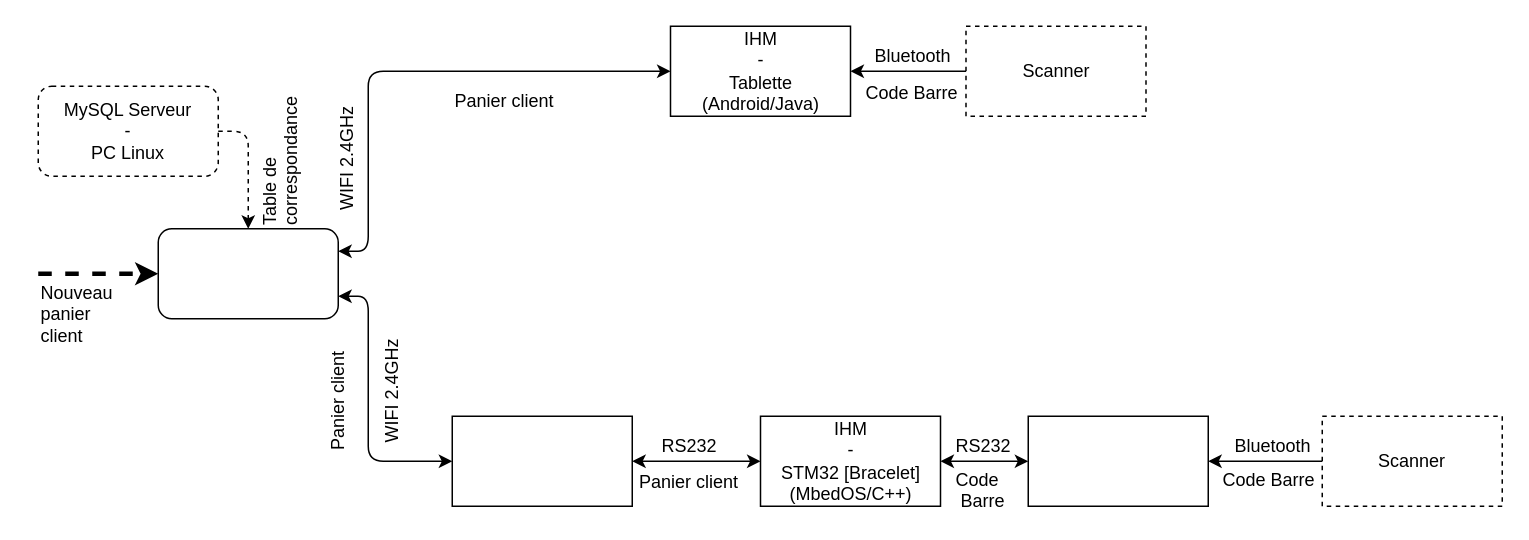
The diagram is 1529 pixels wide and 540 high, and some of its shapes have lost their labels. Each missing label, with the box of its shape:
HC-05: (1027, 415, 1208, 506)
MOD-WIFI-ESP8266: (451, 415, 632, 506)
Serveur de commande - PC Linux: (157, 227, 338, 319)
